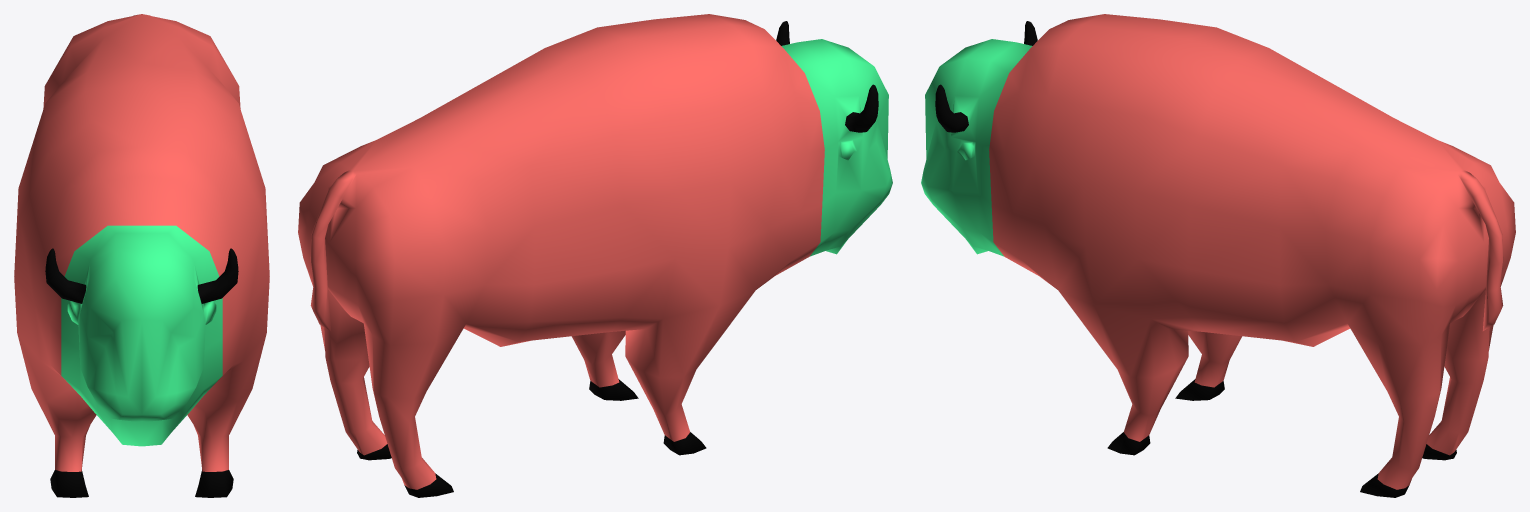
The model's file is Toy150.fbx.
3 renders of one model, left to right at view 1: azimuth 30°, elevation 25°; view 2: azimuth 150°, elevation 25°; view 3: azimuth 270°, elevation 25°, orthographic.
Visible parts, largest first — view 1: Toy150; view 2: Toy150; view 3: Toy150.
Part boxes in pixels (x1,y1,x2,y2): Toy150: (14, 14, 269, 497); Toy150: (298, 14, 892, 497); Toy150: (921, 14, 1515, 497).
Bounding box in the file's own units: 0.1238 × 0.1219 × 0.1695.
